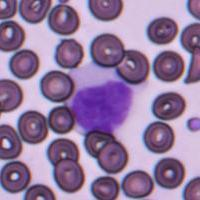M: (66, 74, 136, 133)
